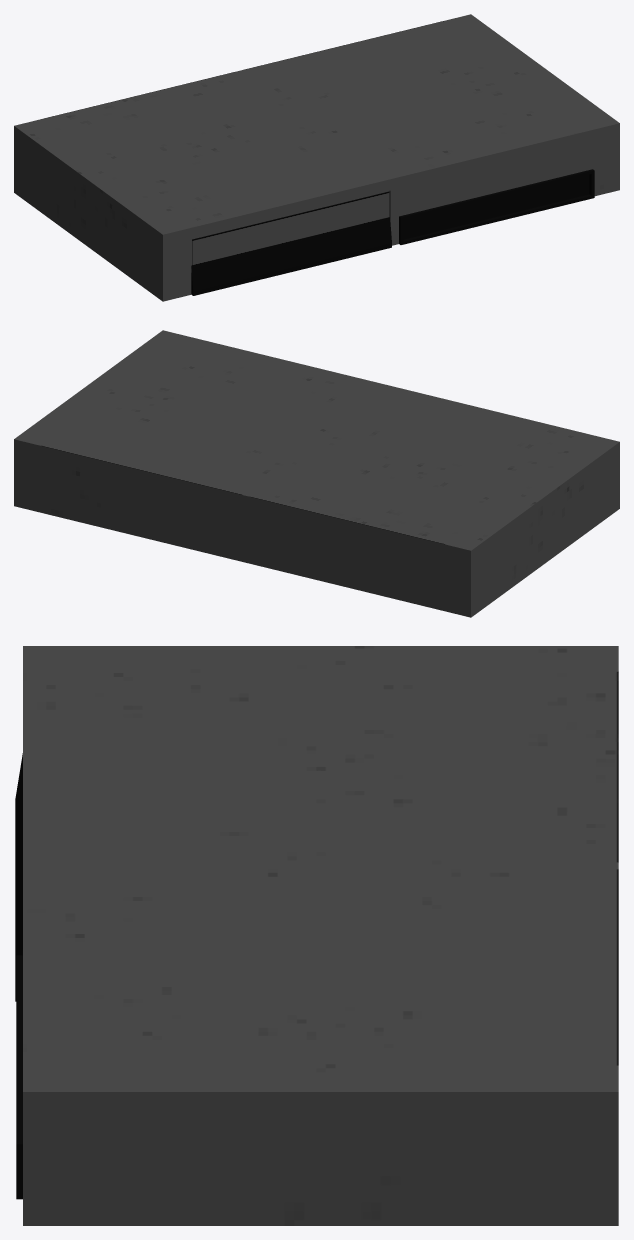
File: DVD_Player.fbx
The picture shows the model from 3 angles, top to bottom: view 1: azimuth 30°, elevation 25°; view 2: azimuth 150°, elevation 25°; view 3: azimuth 270°, elevation 25°; orthographic projection. The views are drawn at different scales.
Parts seen in each view (by area): view 1: VHS_Player; view 2: VHS_Player; view 3: VHS_Player.
Part boxes in pixels (left/top/right/bottom): VHS_Player: left=14, top=14, right=619, bottom=301; VHS_Player: left=14, top=330, right=619, bottom=617; VHS_Player: left=15, top=646, right=618, bottom=1225.
Size of the model in its own units: 163 by 22.76 by 92.93.
1 material, 1 textured.
